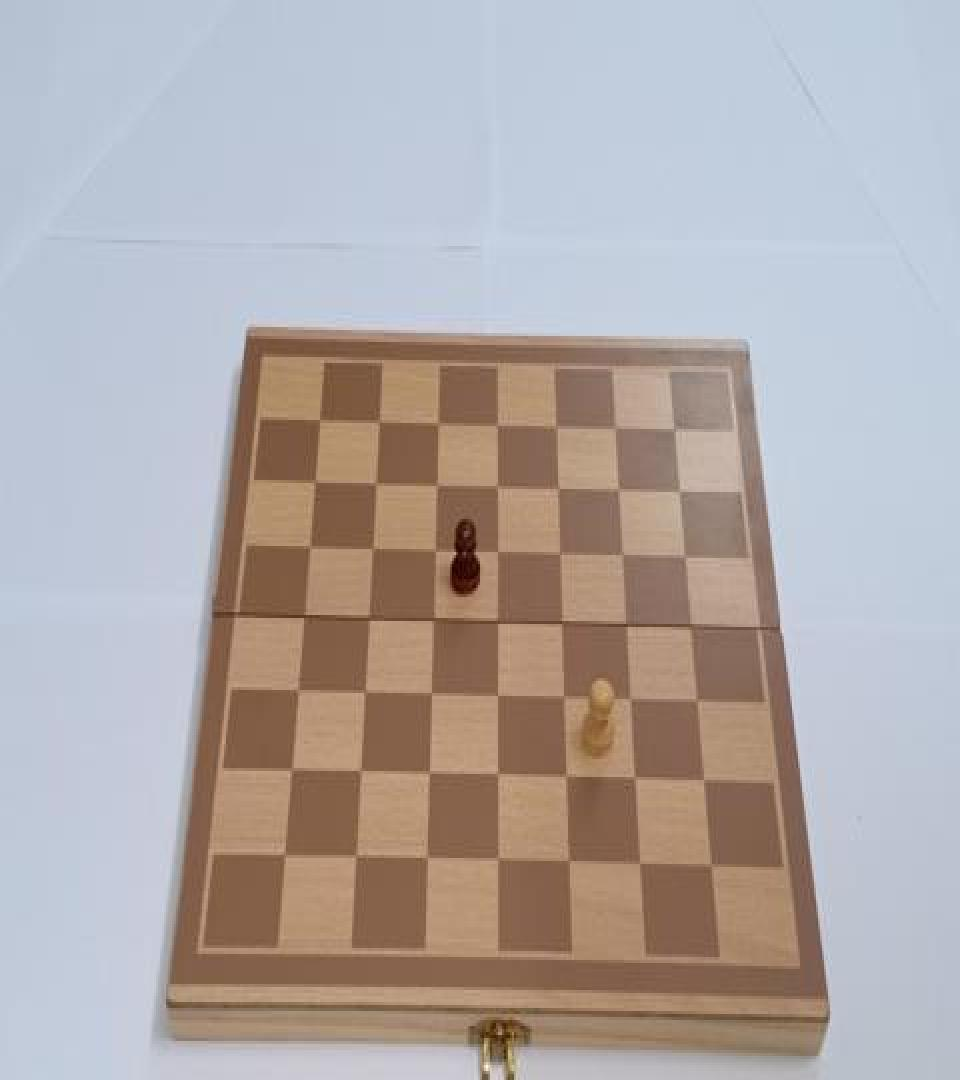xcorner: (365, 472, 383, 500), (427, 412, 445, 440), (487, 760, 505, 788), (667, 478, 685, 506), (310, 411, 328, 438), (305, 471, 323, 498), (294, 604, 312, 631), (288, 678, 306, 705), (282, 756, 300, 783), (275, 840, 293, 867), (369, 411, 387, 438), (362, 537, 380, 564), (358, 606, 376, 633), (426, 474, 444, 501), (424, 538, 442, 565), (420, 681, 438, 708), (418, 759, 436, 786), (416, 843, 434, 870), (486, 414, 504, 441), (486, 540, 504, 567), (486, 609, 504, 636), (487, 683, 505, 710), (487, 844, 505, 871), (544, 415, 562, 442), (551, 610, 569, 637), (553, 684, 571, 711), (555, 762, 573, 789), (558, 846, 576, 873), (603, 415, 621, 442), (607, 477, 625, 504), (611, 543, 629, 570), (615, 612, 633, 639), (662, 417, 680, 444), (673, 543, 691, 570), (686, 687, 704, 714), (693, 765, 711, 792), (700, 849, 718, 876), (300, 536, 318, 562), (354, 680, 372, 706), (350, 758, 368, 784), (346, 842, 364, 868), (422, 608, 440, 634), (486, 476, 504, 502), (546, 476, 564, 502), (548, 542, 566, 568), (619, 686, 637, 712), (624, 764, 642, 790), (629, 848, 647, 874), (679, 614, 697, 640)
